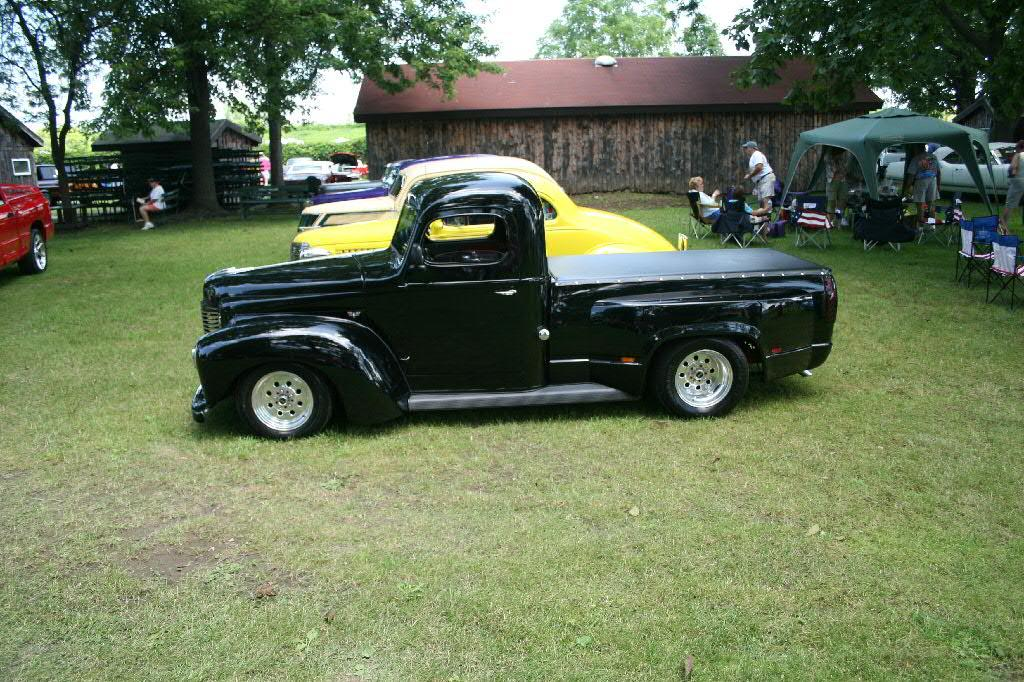cars: (190, 145, 828, 423), (881, 141, 1020, 200), (0, 193, 56, 274)
